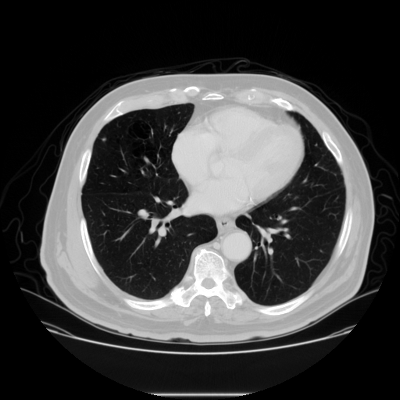nodule: (101, 137, 105, 141)
